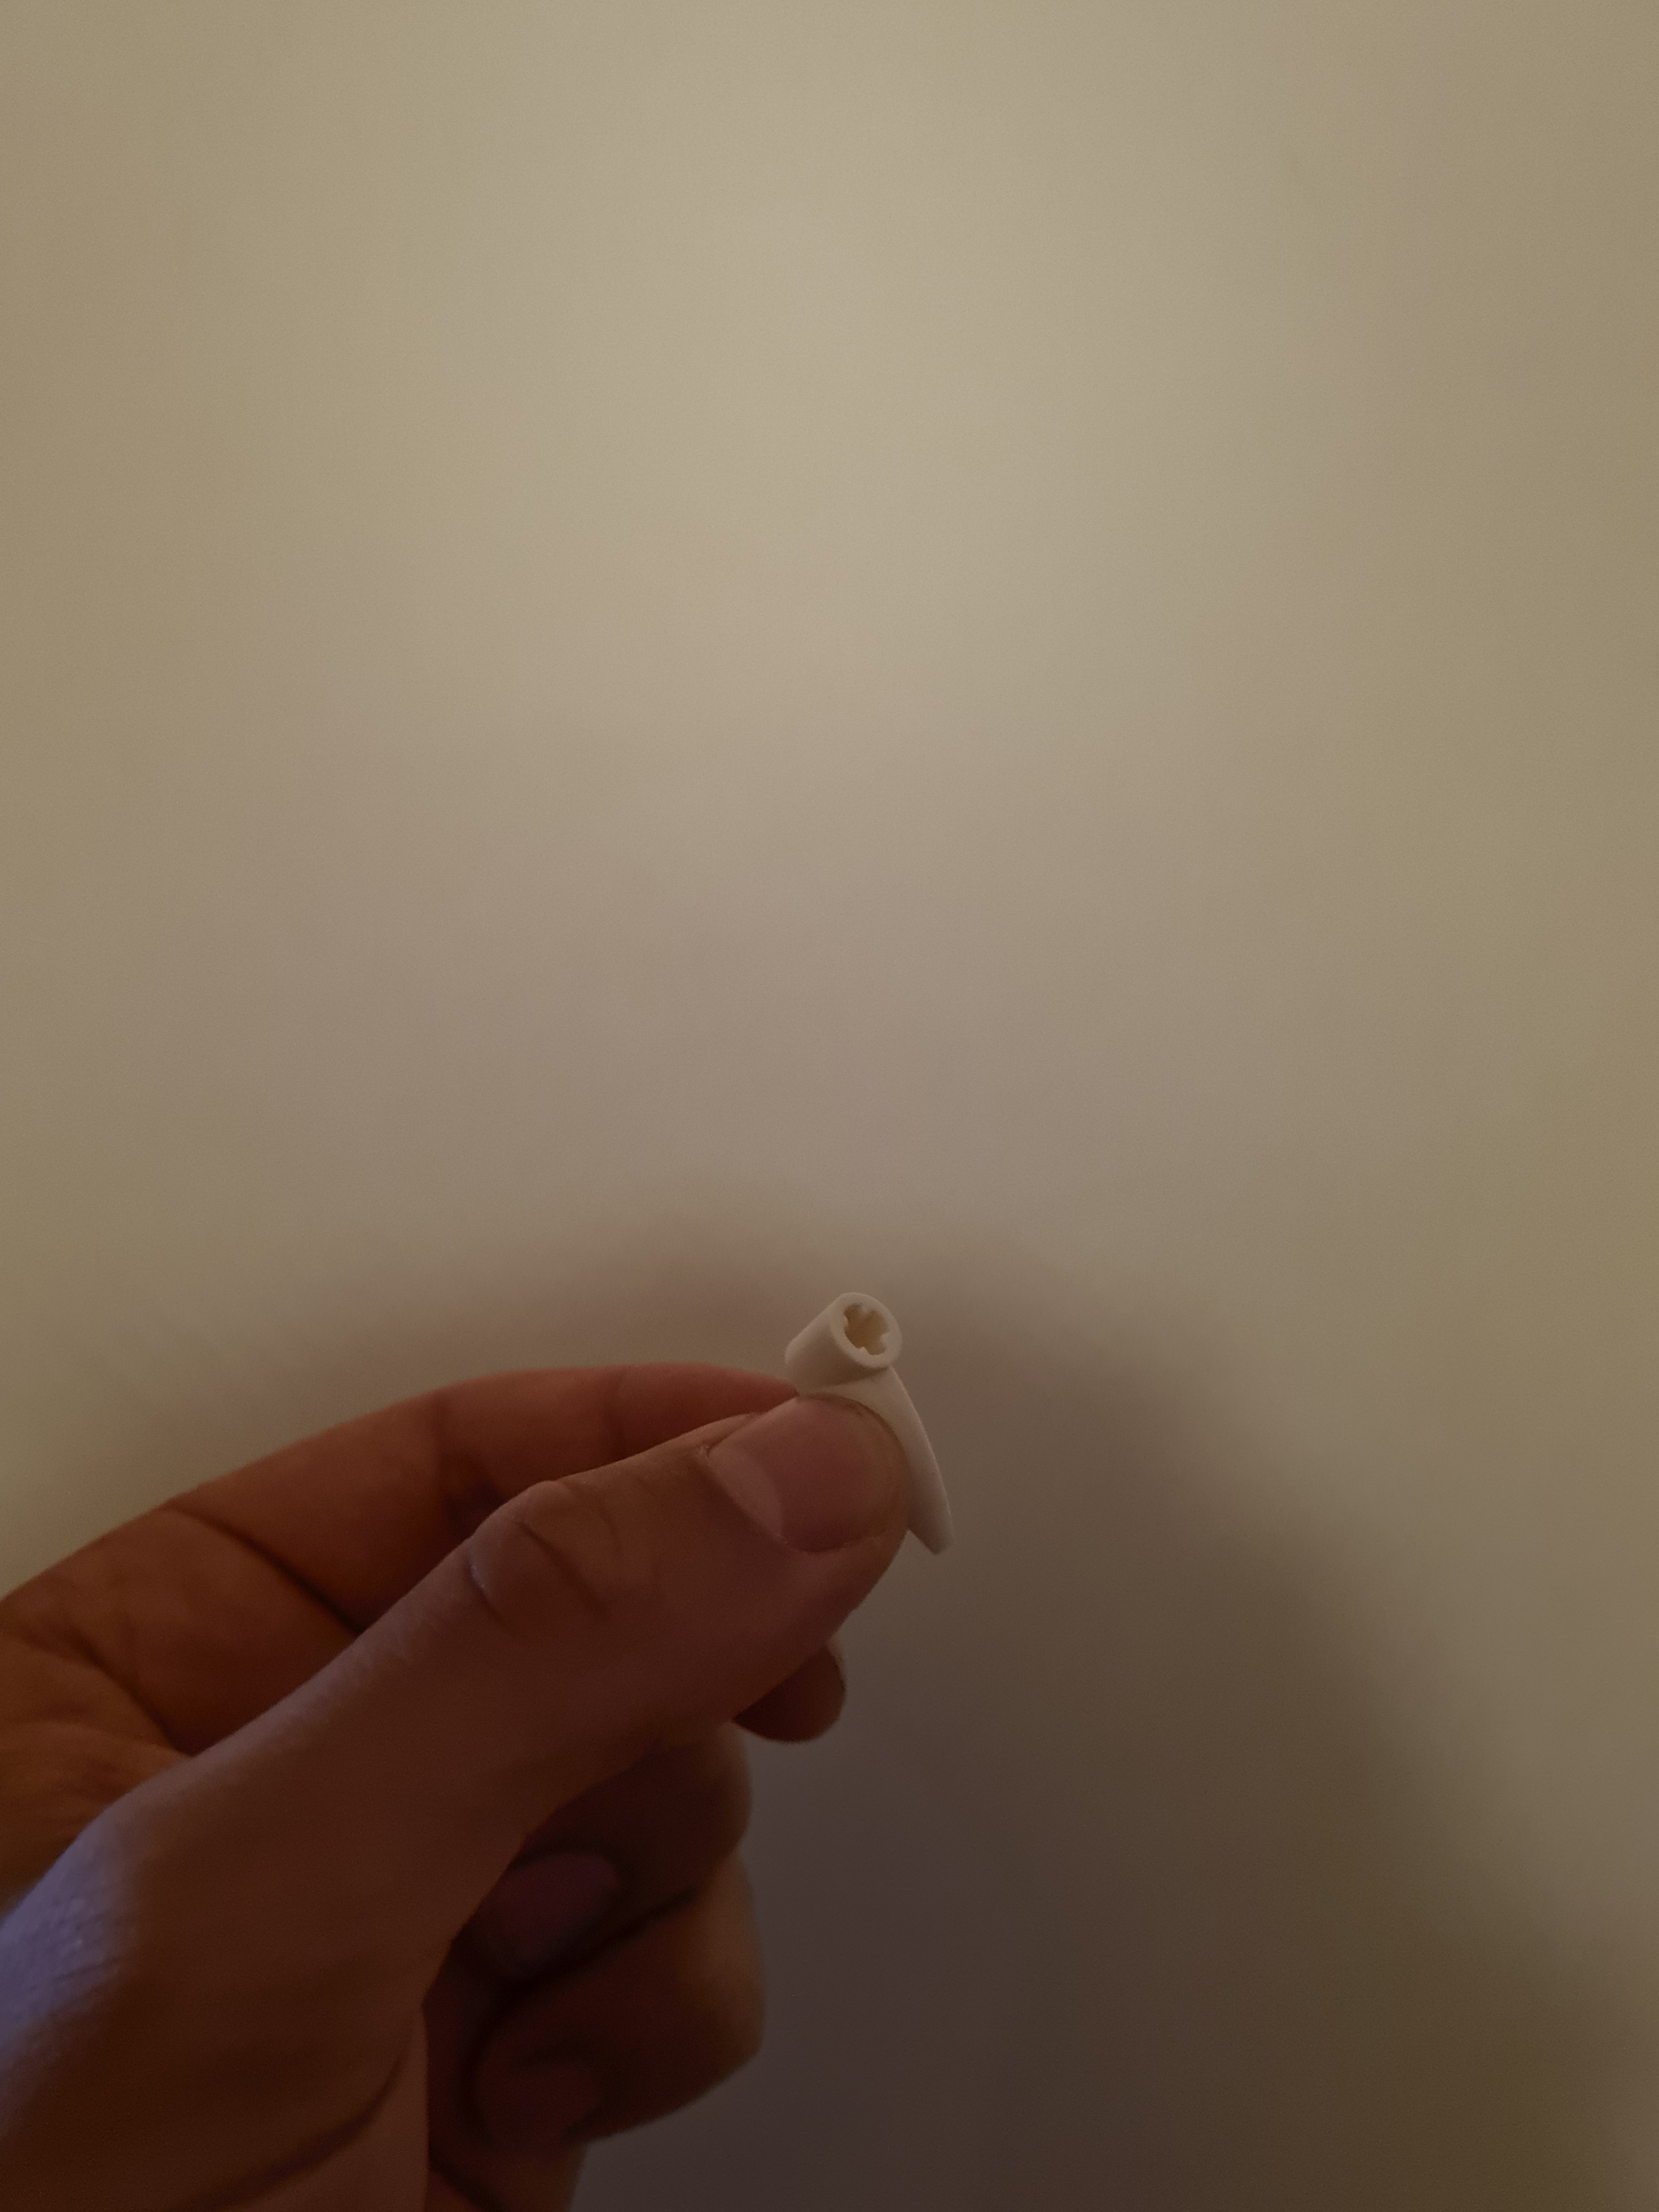Kappe: (762, 1247, 1016, 1606)
